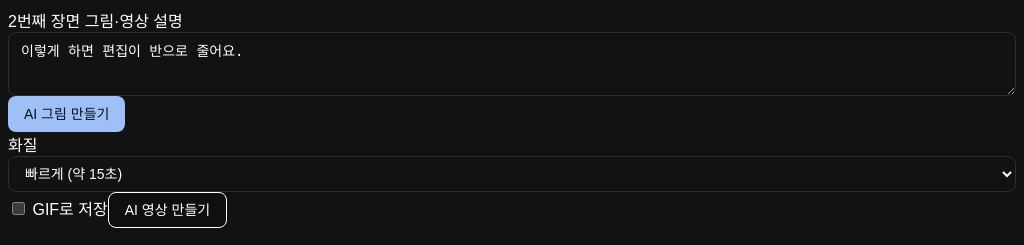
Test case: 장면 그림 만들기 › 기다리는 동안 무엇을 하고 있는지 말하고, 두 번 눌리지 않게 한다
Step 1. Click the button "AI 그림 만들기" → (67, 114), box [8,96,125,132]
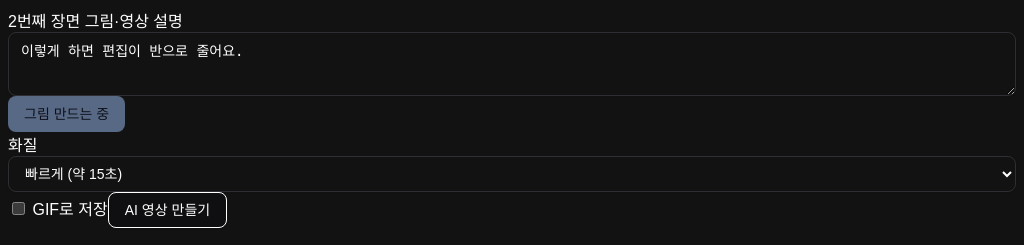
Expected: the button "그림 만드는 중" is disabled, [8,96,125,132]
